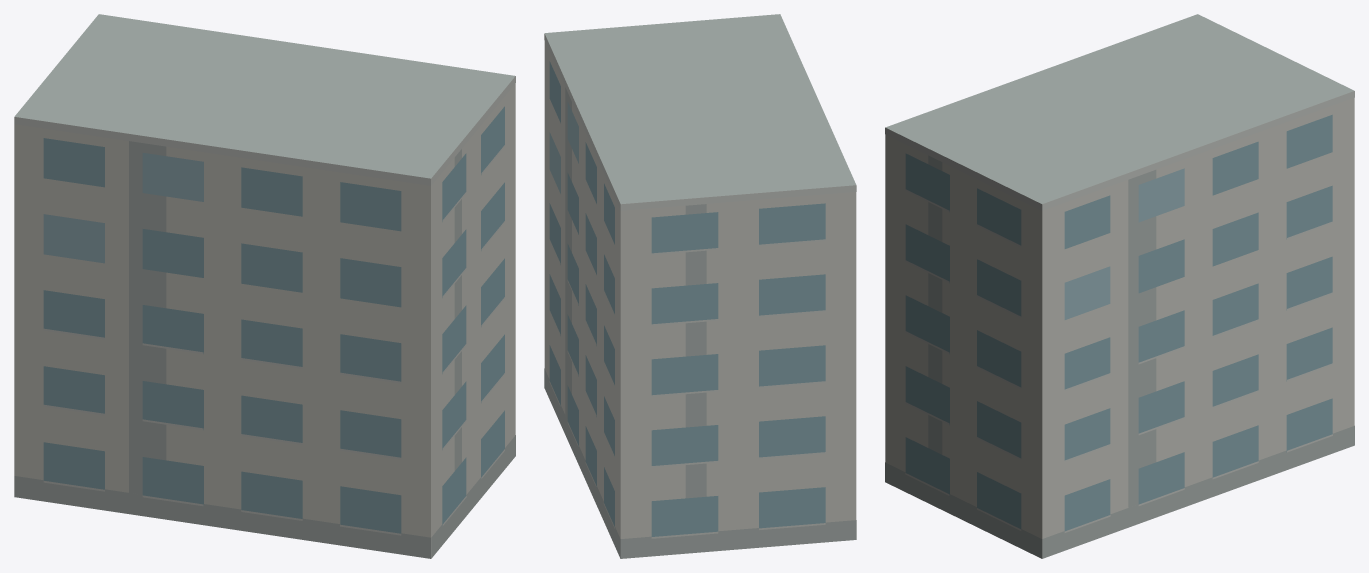
File: survey-upis-32628494.glb
The picture shows the model from 3 angles, left to right: view 1: azimuth 30°, elevation 25°; view 2: azimuth 150°, elevation 25°; view 3: azimuth 270°, elevation 25°; orthographic projection. The views are drawn at different scales.
Parts seen in each view (by area): view 1: survey-upis-32628494.tmp; view 2: survey-upis-32628494.tmp; view 3: survey-upis-32628494.tmp.
Part boxes in pixels (x1,y1,x2,y2): survey-upis-32628494.tmp: [14, 14, 515, 558]; survey-upis-32628494.tmp: [544, 14, 856, 558]; survey-upis-32628494.tmp: [885, 14, 1354, 558].
Bounding box in the file's own units: 14.73 × 12.8 × 15.37.
